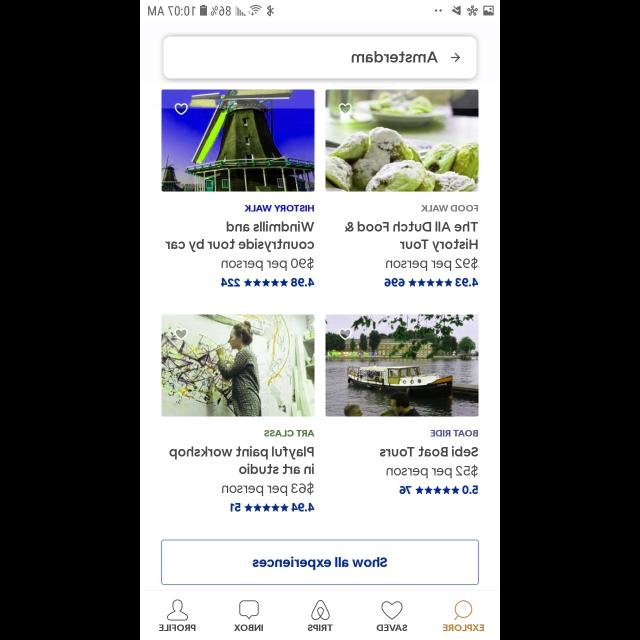icon: (244, 278, 288, 288), (168, 600, 188, 620), (239, 600, 259, 620), (310, 600, 330, 620), (382, 600, 402, 620), (244, 503, 288, 512), (454, 600, 472, 620), (415, 486, 459, 494), (408, 279, 452, 287), (338, 328, 352, 340), (175, 103, 189, 115), (175, 328, 188, 340), (338, 104, 352, 115), (450, 54, 460, 62)
image: (326, 315, 478, 417), (162, 315, 314, 417), (162, 90, 314, 192), (326, 90, 478, 192)
input: (164, 37, 476, 79)
text: (166, 222, 314, 252), (170, 446, 314, 474), (344, 222, 478, 252), (222, 256, 314, 272), (222, 482, 314, 496), (386, 257, 478, 271), (387, 465, 478, 479), (380, 447, 478, 458), (350, 51, 438, 63), (244, 204, 314, 212), (420, 205, 478, 212), (264, 430, 314, 438), (430, 429, 478, 436), (442, 624, 484, 632), (158, 624, 196, 632), (377, 624, 408, 632), (290, 278, 314, 288), (234, 624, 262, 632), (292, 502, 314, 512), (384, 278, 404, 288), (308, 624, 332, 632), (454, 278, 478, 286), (220, 278, 240, 286), (462, 486, 478, 494), (230, 502, 240, 512), (400, 486, 412, 494)
textbutton: (161, 539, 479, 585)
uppertaskbar: (140, 1, 500, 17)
